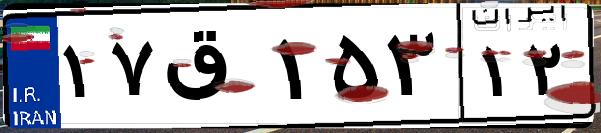1: (270, 28, 330, 110), (57, 26, 110, 100), (475, 38, 525, 113)
2: (525, 38, 570, 115)
3: (385, 28, 445, 110)
5: (330, 28, 385, 110)
7: (110, 28, 158, 98)
ق: (158, 20, 270, 120)
